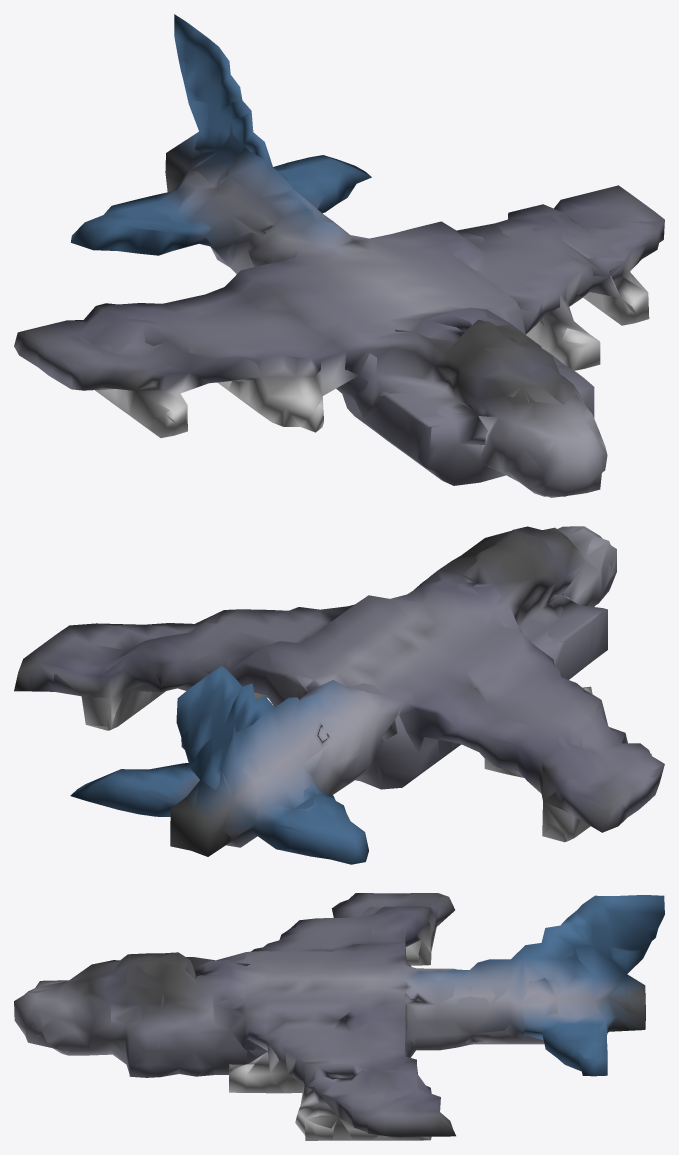
Rendered from harrier.glb.
3 views of the same model, one above another, from view 1: azimuth 30°, elevation 25°; view 2: azimuth 150°, elevation 25°; view 3: azimuth 270°, elevation 25° (orthographic). The views are drawn at different scales.
Parts seen in each view (by area): view 1: harrier; view 2: harrier; view 3: harrier.
Boxes of the visible parts, bbox=[...] form: harrier: bbox=[14, 14, 664, 497]; harrier: bbox=[14, 526, 664, 864]; harrier: bbox=[14, 893, 664, 1140].
Bounding box in the file's own units: 3.54 × 1.19 × 4.27.
